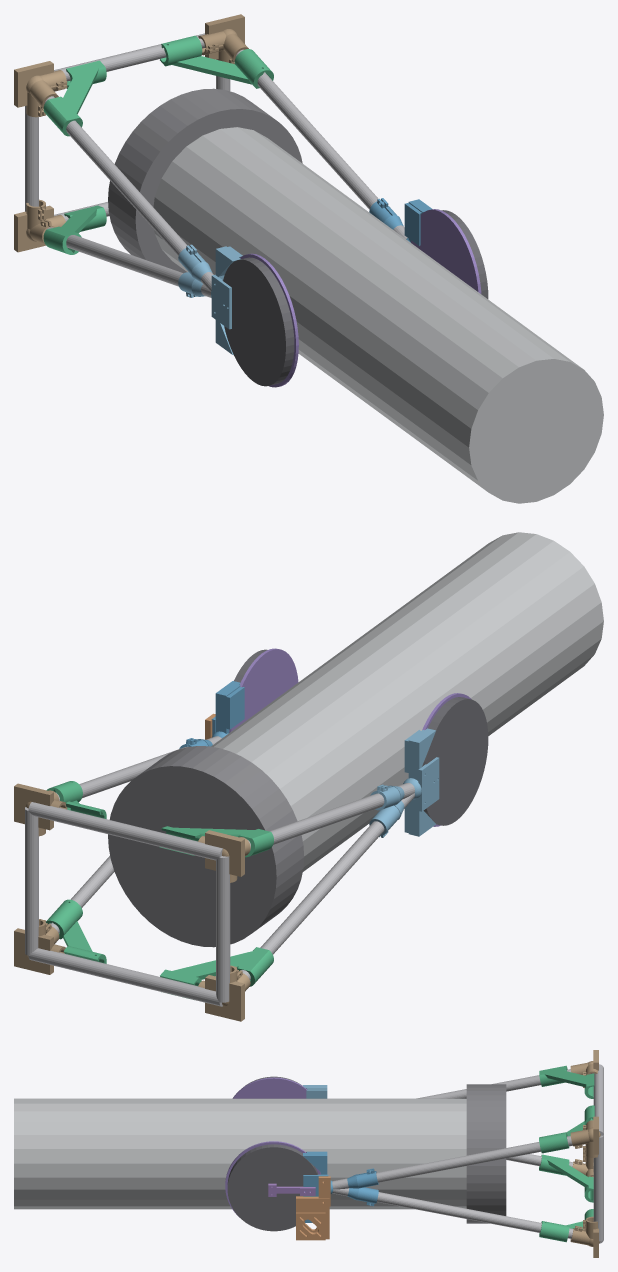
Rendered from ASSEMBLY_full.glb.
3 renders of one model, top to bottom at view 1: azimuth 30°, elevation 25°; view 2: azimuth 150°, elevation 25°; view 3: azimuth 270°, elevation 25°, orthographic. The views are drawn at different scales.
Parts seen in each view (by area): view 1: труба OTA, зерк.ящик, колесо L, башня L, фланец R, нога FL, косынка FR, нога FR, косынка FL, угол FL, нога BL, угол FR (+7 smaller); view 2: труба OTA, зерк.ящик, колесо L, башня L, база перёд, база зад, нога BL, фланец R, база бок L, база бок R, нога FL, косынка BL (+10 smaller); view 3: труба OTA, колесо R, зерк.ящик, нога FR, нога BR, мотор, башня R, фланец L, косынка BL, косынка FL, база бок R, угол FR (+11 smaller).
Part boxes in pixels (<box>): труба OTA: <box>153,127,603,503</box>; зерк.ящик: <box>108,88,302,273</box>; колесо L: <box>223,257,294,386</box>; башня L: <box>178,244,242,354</box>; фланец R: <box>411,209,481,293</box>; нога FL: <box>44,96,213,291</box>; косынка FR: <box>160,35,273,88</box>; нога FR: <box>235,49,407,238</box>; косынка FL: <box>43,60,106,136</box>; угол FL: <box>14,61,67,117</box>; нога BL: <box>46,227,211,297</box>; угол FR: <box>198,14,248,64</box>; труба OTA: <box>211,532,603,871</box>; зерк.ящик: <box>108,746,304,947</box>; колесо L: <box>422,697,488,825</box>; башня L: <box>369,728,439,837</box>; база перёд: <box>28,802,222,860</box>; база зад: <box>28,948,222,1006</box>; нога BL: <box>239,793,414,979</box>; фланец R: <box>229,648,298,732</box>; база бок L: <box>216,856,230,1002</box>; база бок R: <box>25,807,38,955</box>; нога FL: <box>247,782,414,850</box>; косынка BL: <box>160,947,273,998</box>; труба OTA: <box>14,1098,466,1209</box>; колесо R: <box>227,1144,318,1231</box>; зерк.ящик: <box>466,1084,506,1223</box>; нога FR: <box>332,1136,572,1189</box>; нога BR: <box>332,1188,573,1238</box>; мотор: <box>296,1176,330,1240</box>; башня R: <box>303,1151,378,1222</box>; фланец L: <box>232,1077,307,1098</box>; косынка BL: <box>539,1154,593,1202</box>; косынка FL: <box>539,1065,594,1098</box>; база бок R: <box>593,1135,603,1241</box>; угол FR: <box>570,1116,600,1157</box>.
Bounding box in the file's own units: 404 × 306 × 1271.
